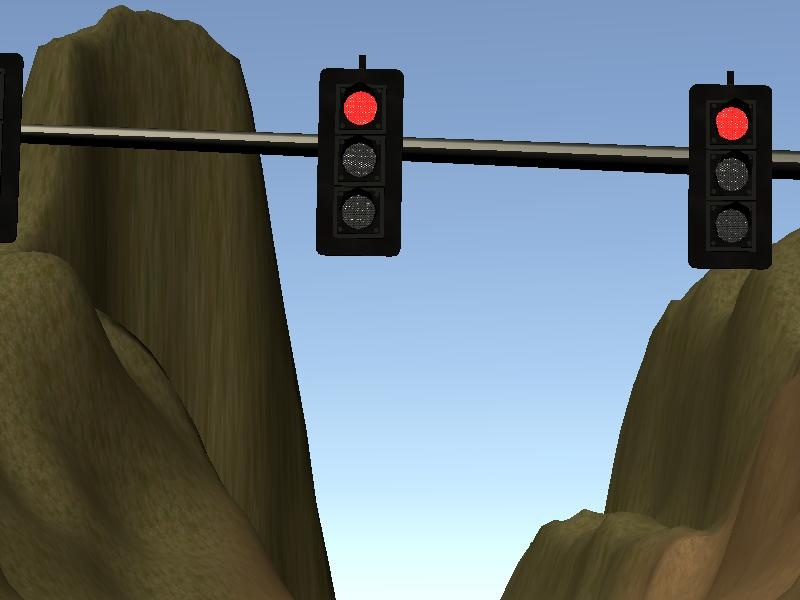RED: (315, 67, 406, 258), (685, 84, 775, 271)
